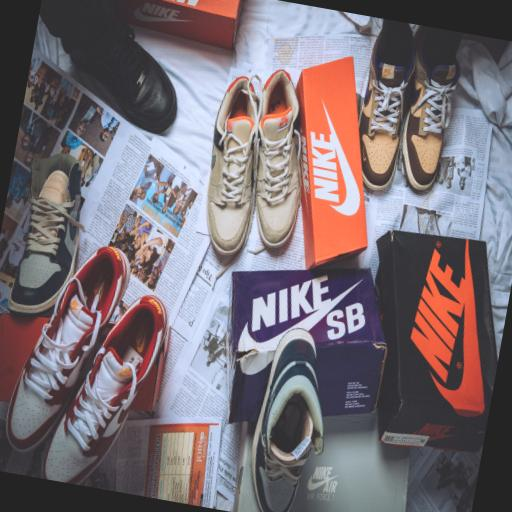shoe: (7, 247, 129, 451), (43, 296, 166, 484), (252, 329, 323, 511), (8, 154, 83, 316), (70, 21, 177, 133), (206, 77, 261, 255), (402, 26, 460, 190), (359, 30, 414, 190), (256, 70, 301, 247)
